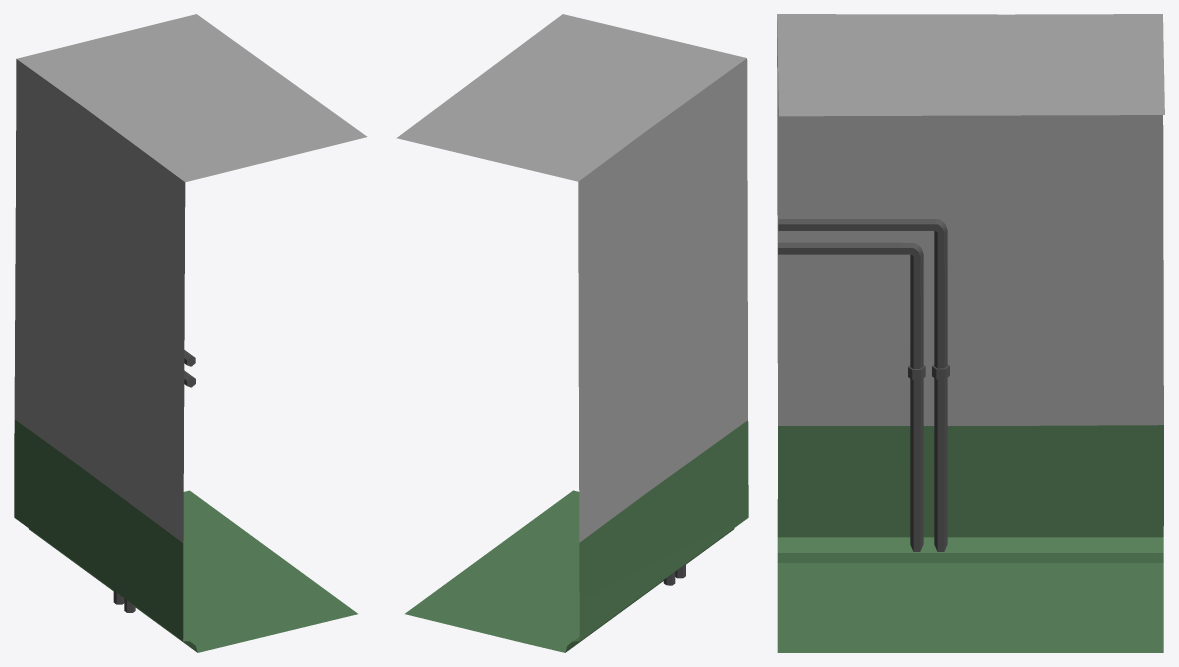
Rendered from mapa4.fbx.
The picture shows the model from 3 angles, left to right: view 1: azimuth 30°, elevation 25°; view 2: azimuth 150°, elevation 25°; view 3: azimuth 270°, elevation 25°; orthographic projection. The views are drawn at different scales.
Parts seen in each view (by area): view 1: pCylinder33; view 2: pCylinder33; view 3: pCylinder33.
Boxes of the visible parts, x1,y1,x2,y2 form: pCylinder33: (14, 14, 367, 652); pCylinder33: (396, 14, 748, 652); pCylinder33: (777, 14, 1164, 652).
Bounding box in the file's own units: 3.46 × 8.48 × 5.49.
